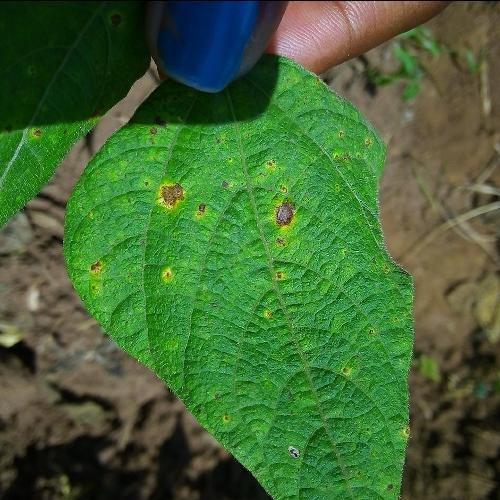hawar: (256, 147, 297, 248), (327, 119, 376, 174), (143, 178, 196, 224), (70, 247, 108, 298), (264, 265, 292, 290)
mozaik: (216, 298, 393, 442)
